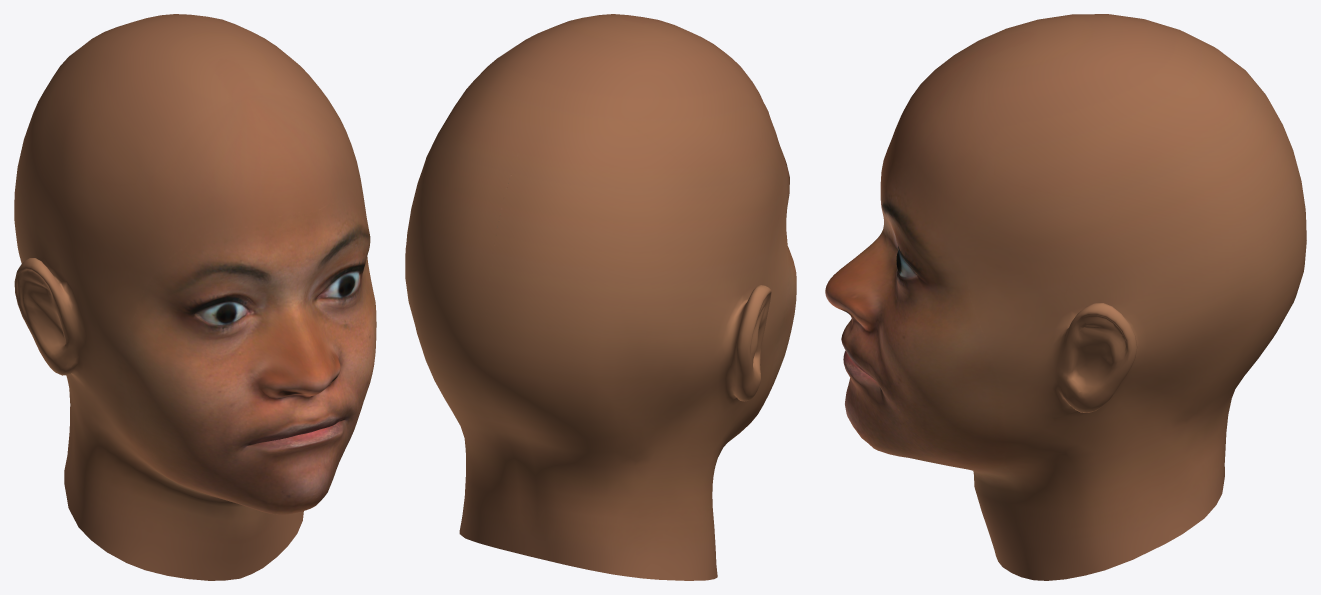
Rendered from v332_obj_ExpressionChinRaised.obj.
3 renders of one model, left to right at view 1: azimuth 30°, elevation 25°; view 2: azimuth 150°, elevation 25°; view 3: azimuth 270°, elevation 25°, orthographic. The views are drawn at different scales.
Parts seen in each view (by area): view 1: HeadHires; view 2: HeadHires; view 3: HeadHires.
Part boxes in pixels (left/top/right/bottom): HeadHires: left=14, top=14, right=376, bottom=580; HeadHires: left=405, top=14, right=796, bottom=580; HeadHires: left=825, top=14, right=1306, bottom=580.
Bounding box in the file's own units: 187 × 282 × 233.
